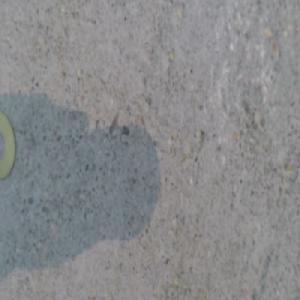Washer: (0, 113, 16, 178)
